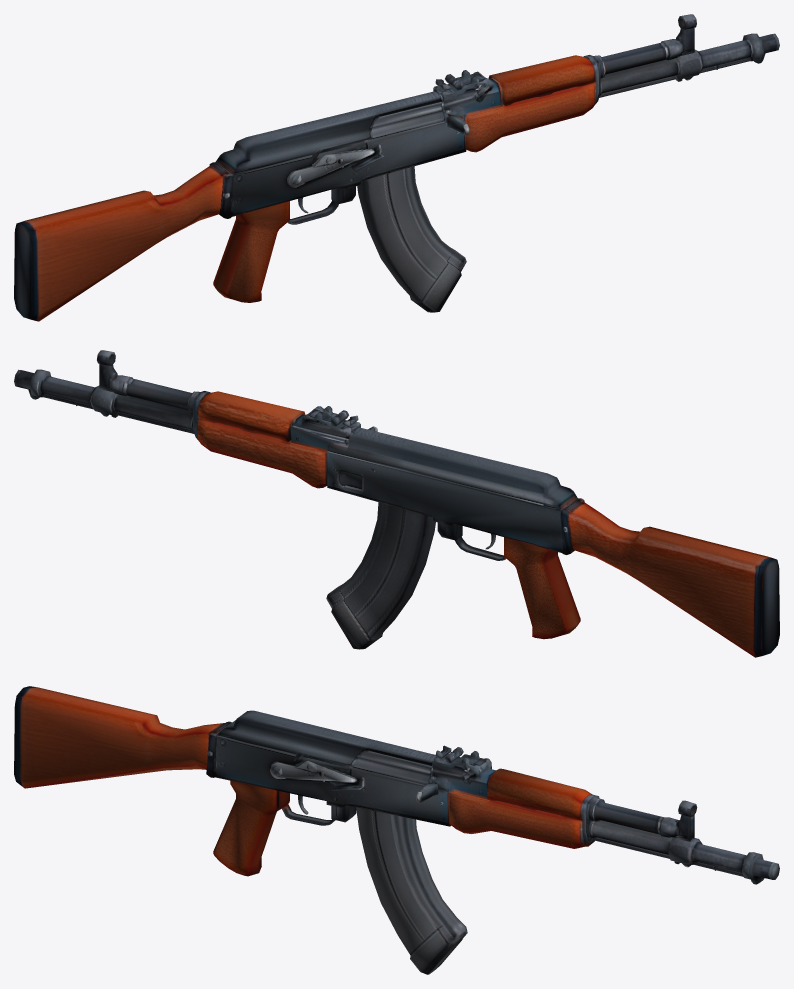
The picture shows the model from 3 angles, top to bottom: view 1: azimuth 30°, elevation 25°; view 2: azimuth 150°, elevation 25°; view 3: azimuth 330°, elevation 25°; orthographic projection.
Visible parts, largest first — view 1: tripo_node_26bfb414-08be-4635-8916-6bbc55007589; view 2: tripo_node_26bfb414-08be-4635-8916-6bbc55007589; view 3: tripo_node_26bfb414-08be-4635-8916-6bbc55007589.
Part boxes in pixels (left/top/right/bottom): tripo_node_26bfb414-08be-4635-8916-6bbc55007589: left=14, top=14, right=779, bottom=321; tripo_node_26bfb414-08be-4635-8916-6bbc55007589: left=14, top=350, right=779, bottom=657; tripo_node_26bfb414-08be-4635-8916-6bbc55007589: left=14, top=686, right=779, bottom=974.
Size of the model in its own units: 0.9995 by 0.2964 by 0.0786.
1 material, 1 textured.
